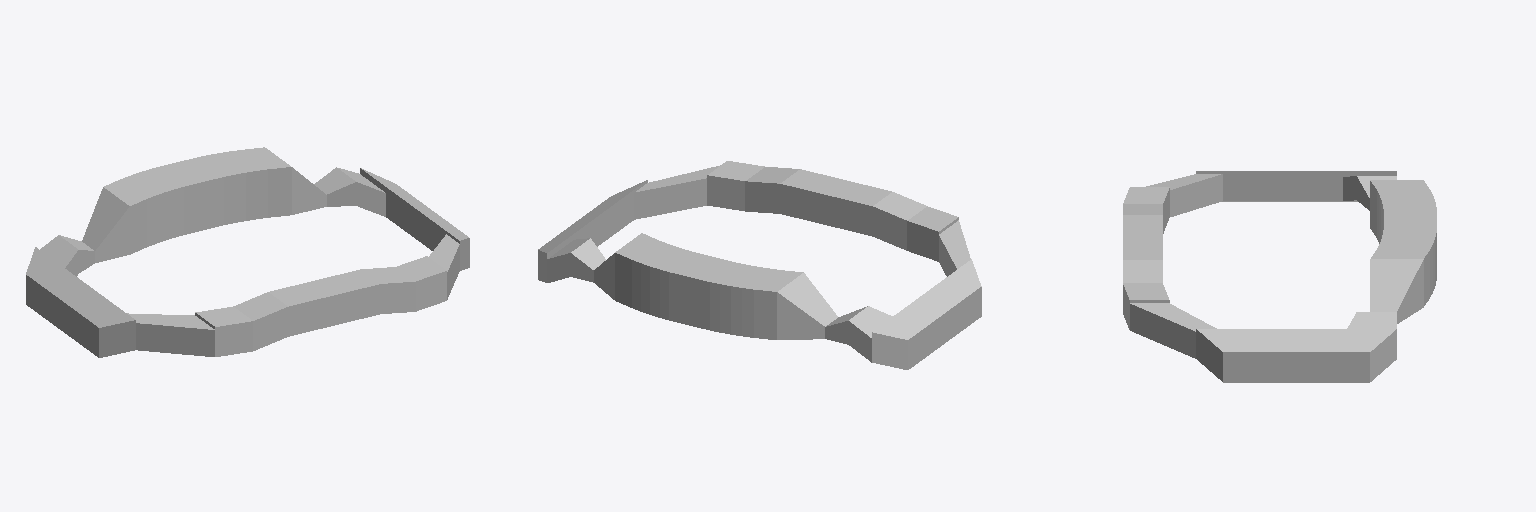
Rendered from Gauntlet Bronze.obj.
The picture shows the model from 3 angles: view 1: azimuth 30°, elevation 25°; view 2: azimuth 150°, elevation 25°; view 3: azimuth 270°, elevation 25°; orthographic projection.
Visible parts, largest first — view 1: Cube; view 2: Cube; view 3: Cube.
Part boxes in pixels (bbox=[...]): Cube: bbox=[26, 147, 469, 357]; Cube: bbox=[538, 161, 981, 369]; Cube: bbox=[1123, 171, 1436, 382].
Size of the model in its own units: 16 by 3 by 11.75.